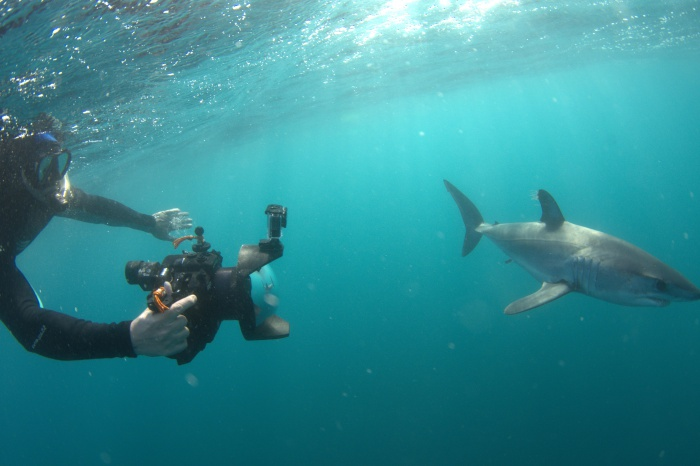Mako: (424, 162, 700, 337)
